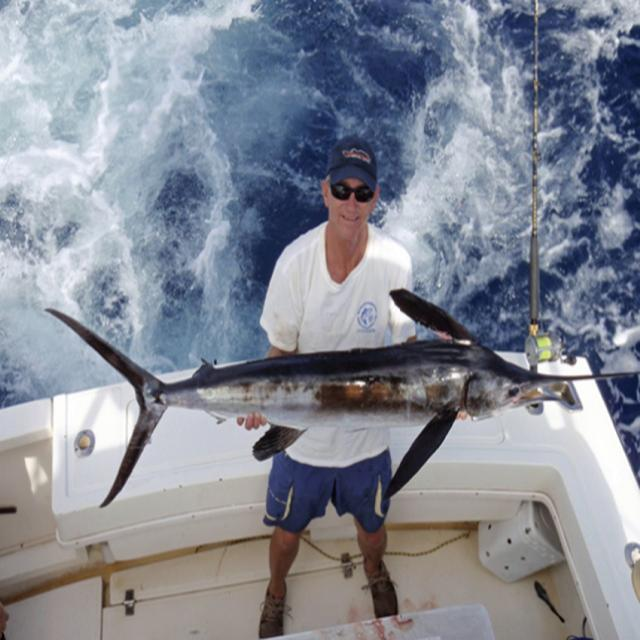Liberacion no segura: (43, 286, 640, 510)
